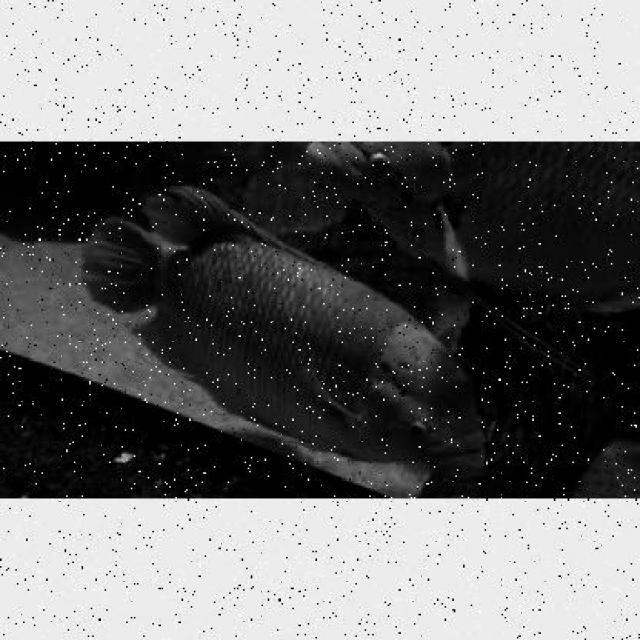gurame: (84, 191, 488, 474)
